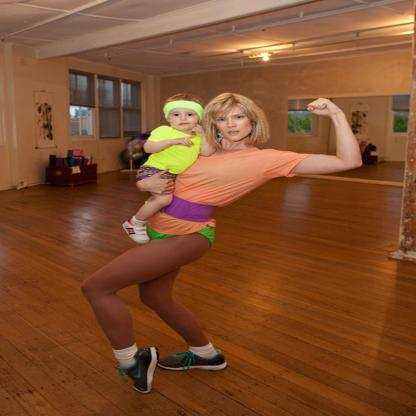face: (212, 106, 254, 143), (167, 102, 201, 131)
